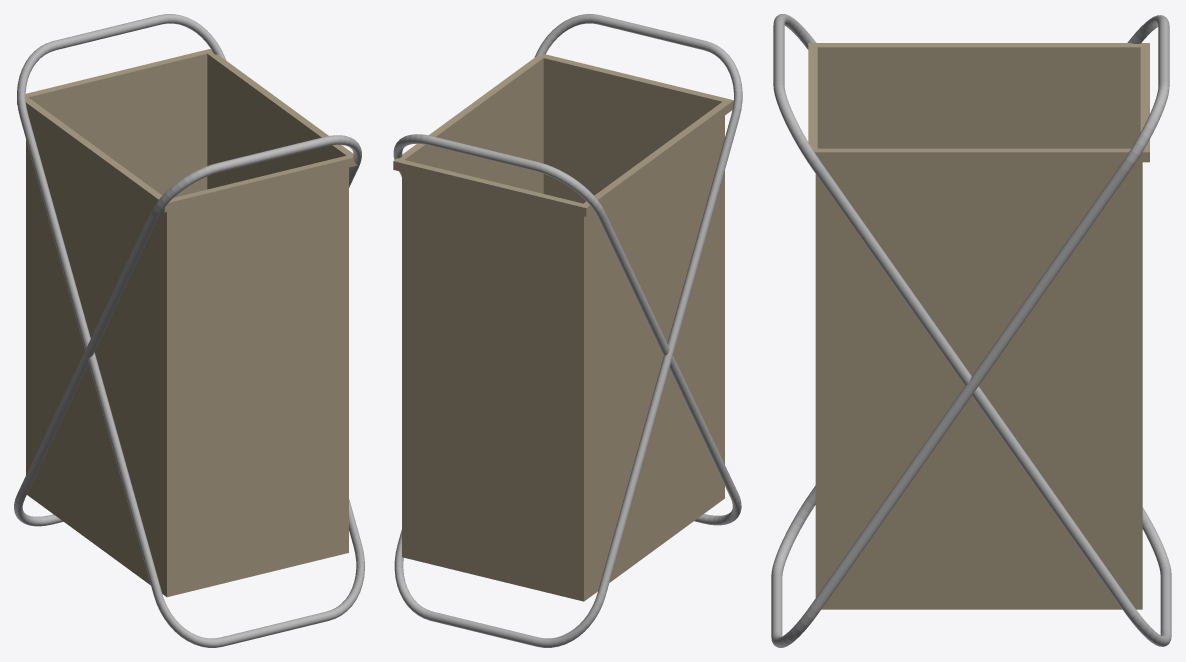
File: Hamper.fbx
The picture shows the model from 3 angles, left to right: view 1: azimuth 30°, elevation 25°; view 2: azimuth 150°, elevation 25°; view 3: azimuth 270°, elevation 25°; orthographic projection. The views are drawn at different scales.
Parts seen in each view (by area): view 1: Hamper, Steel.002; view 2: Hamper, Steel.002; view 3: Hamper, Steel.002.
Boxes of the visible parts, <box> form: Hamper: <box>17,49,357,597</box>; Steel.002: <box>14,14,364,647</box>; Hamper: <box>393,54,733,601</box>; Steel.002: <box>393,14,742,647</box>; Hamper: <box>808,43,1149,609</box>; Steel.002: <box>771,14,1171,647</box>.
Size of the model in its own units: 56.68 by 125 by 81.04.
